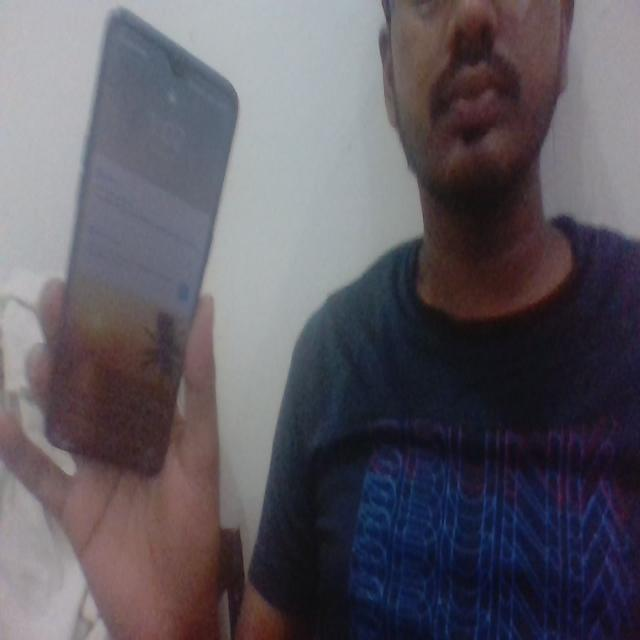Phone: (40, 3, 244, 476)
